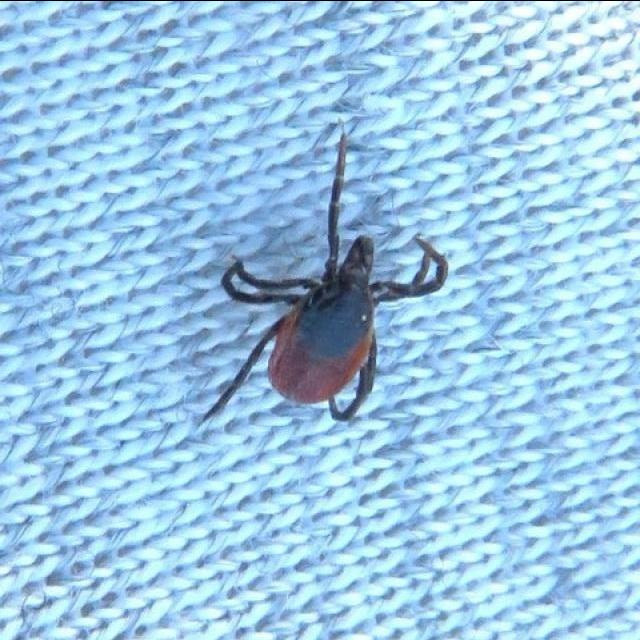Ixodes Ricinus-F: (197, 131, 448, 428)
